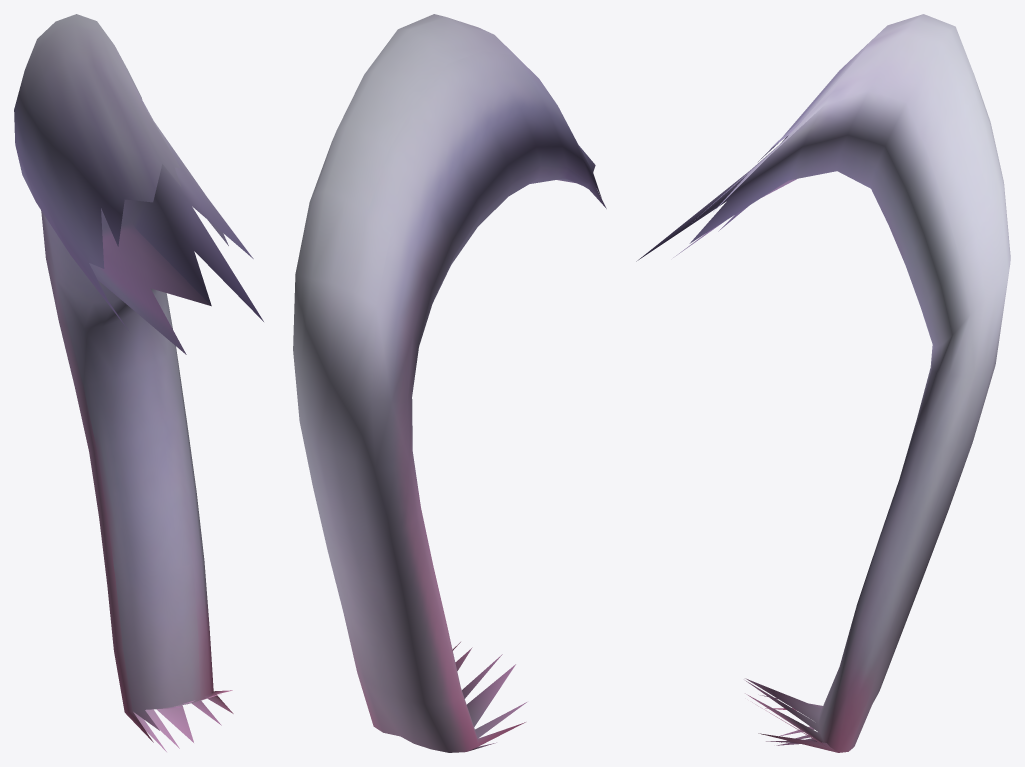
Rendered from Tentaculo8.obj.
The picture shows the model from 3 angles, left to right: view 1: azimuth 30°, elevation 25°; view 2: azimuth 150°, elevation 25°; view 3: azimuth 270°, elevation 25°; orthographic projection. The views are drawn at different scales.
Parts seen in each view (by area): view 1: Tentaculo8; view 2: Tentaculo8; view 3: Tentaculo8.
Boxes of the visible parts, x1=… form: Tentaculo8: x1=14, y1=14, x2=263, y2=751; Tentaculo8: x1=293, y1=14, x2=606, y2=752; Tentaculo8: x1=636, y1=14, x2=1010, y2=752.
Size of the model in its own units: 5.44 by 18.92 by 9.13.
